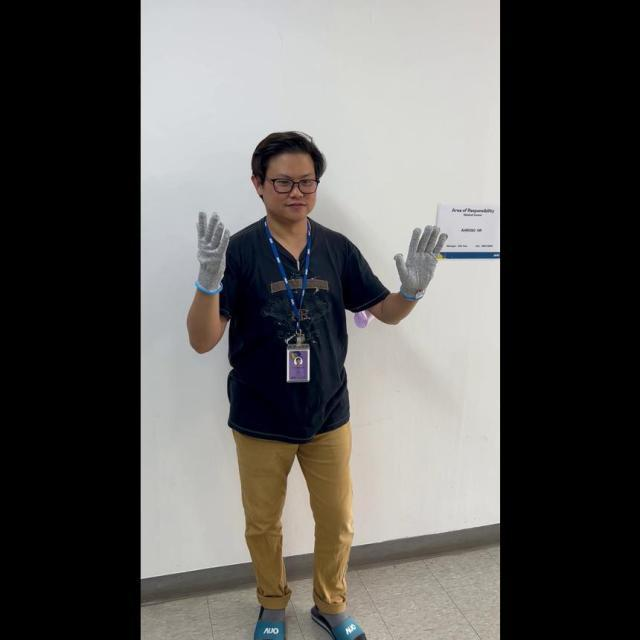gloved_hand: (391, 218, 444, 298), (191, 207, 230, 292)
